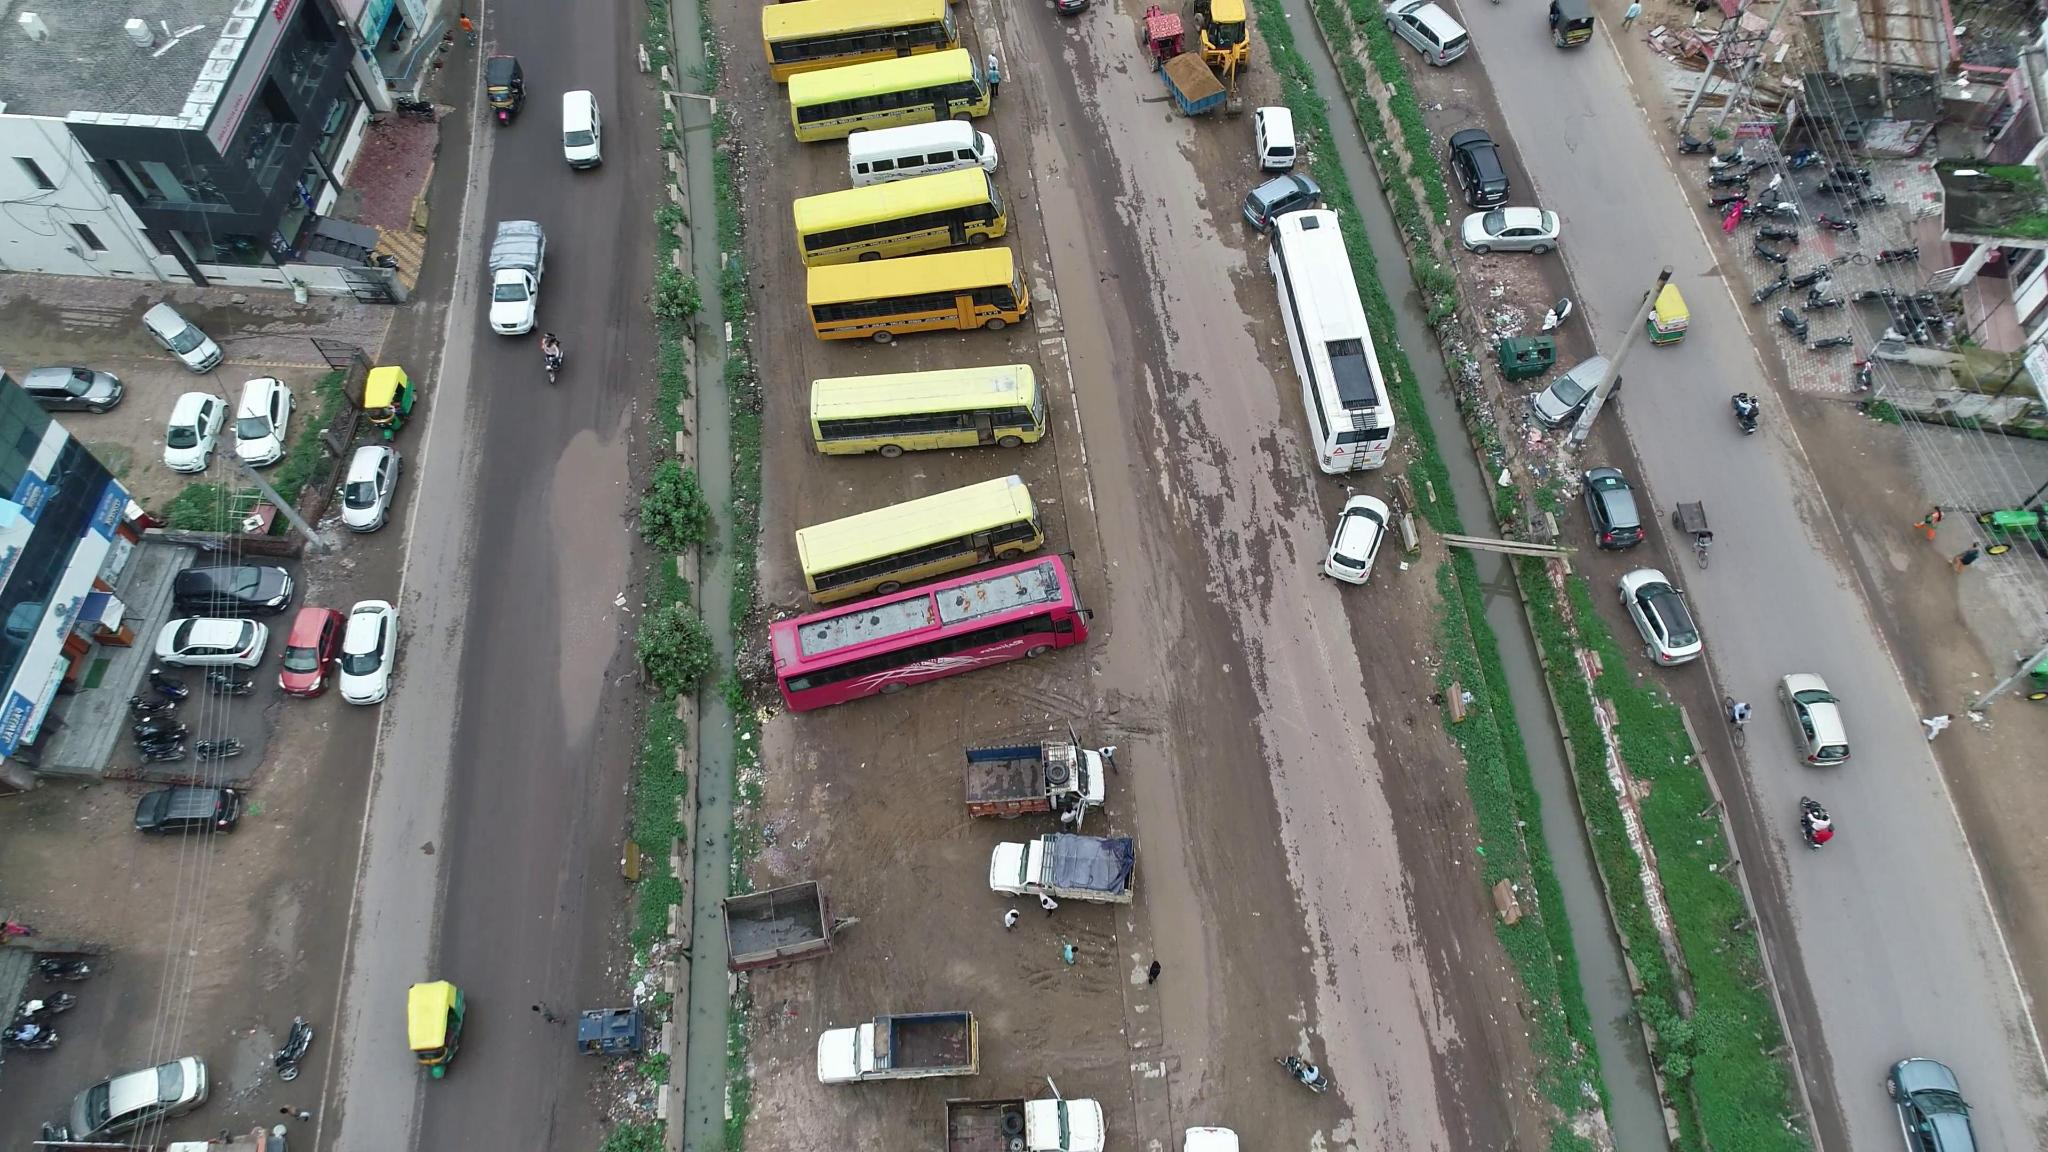Waterlogging: (532, 411, 648, 753)
